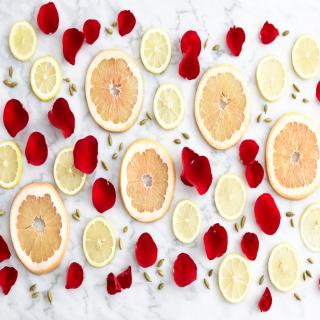Lemon: (83, 215, 117, 269), (219, 252, 252, 306), (53, 147, 87, 196), (215, 173, 247, 222), (140, 28, 173, 75), (256, 54, 288, 102), (268, 244, 300, 292), (153, 84, 185, 130), (29, 58, 63, 101), (172, 199, 202, 245), (292, 33, 320, 82), (8, 20, 38, 61), (0, 143, 23, 187), (299, 205, 320, 253)
Orange: (10, 194, 68, 279)
